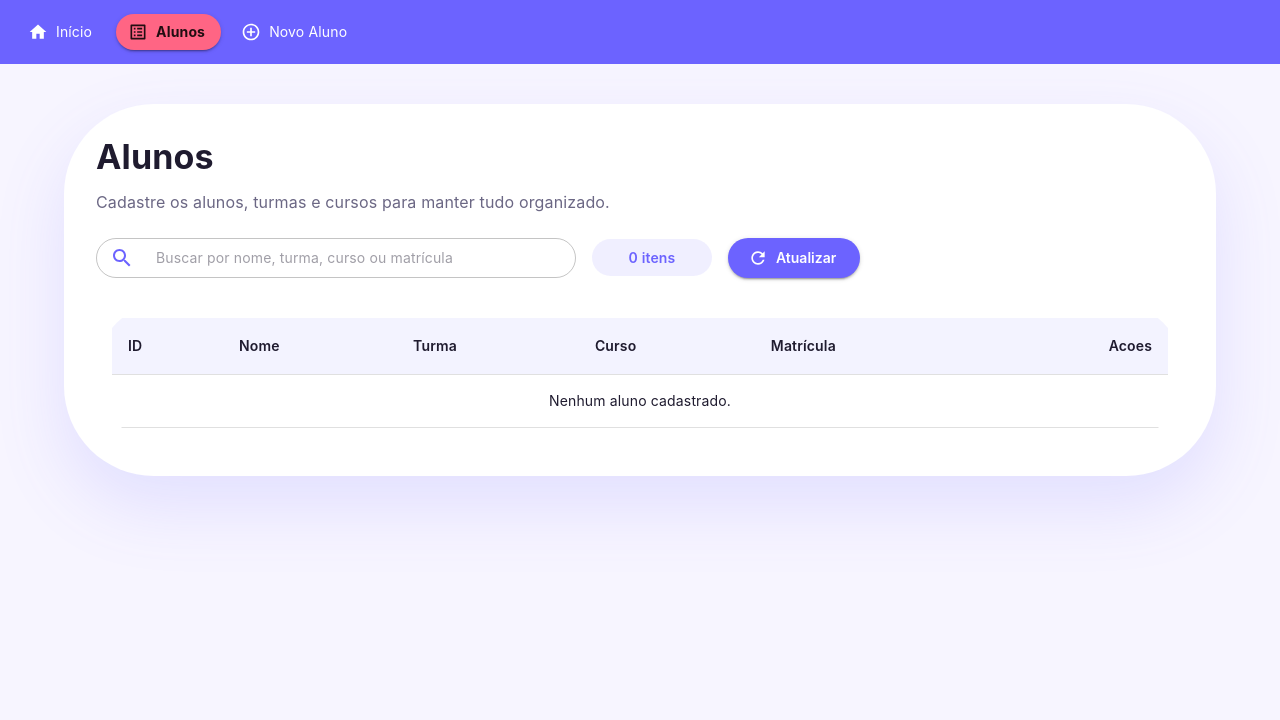
Test: Fluxo completo de alunos (integração) › lista, navega para novo aluno, cria e volta exibindo item
The image size is (1280, 720).
Expected: the heading "Alunos" is shown, x1=96 y1=136 x2=214 y2=177
Click the link "Novo Aluno": (296, 32) x1=237 y1=14 x2=355 y2=50
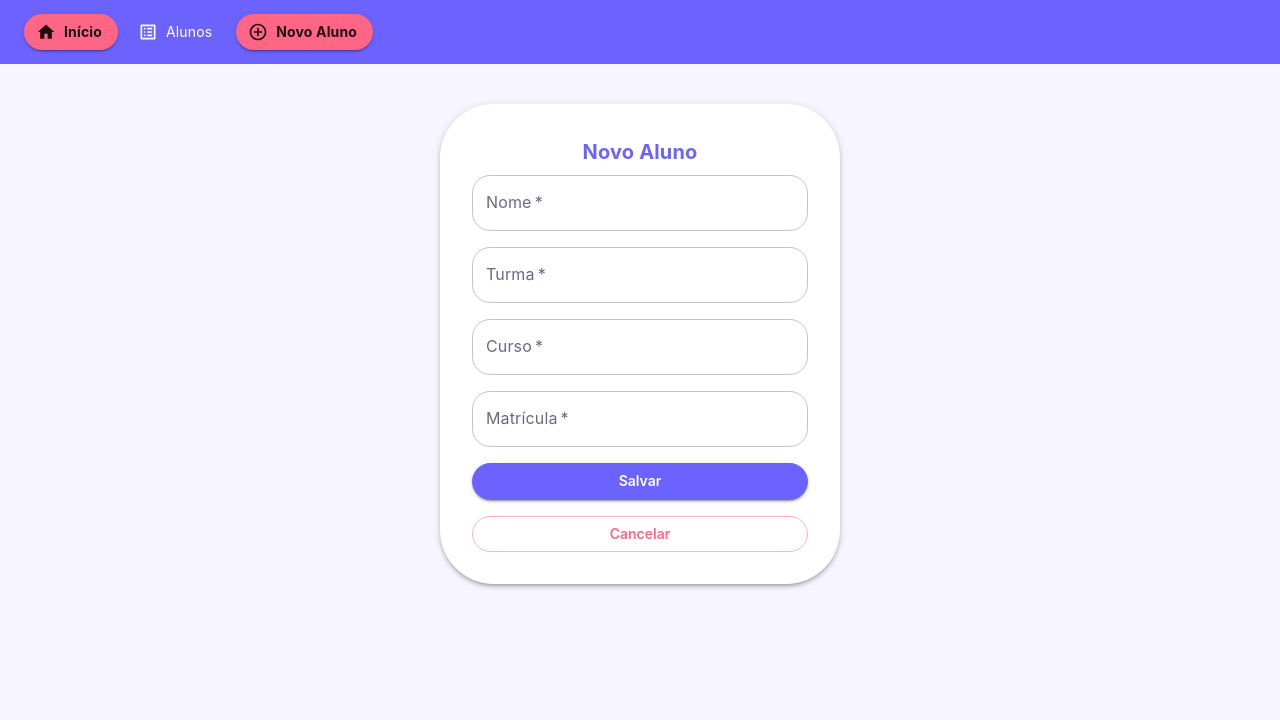
In the field labelled "Nome *": (640, 203) x1=472 y1=175 x2=808 y2=231, type "Ana"
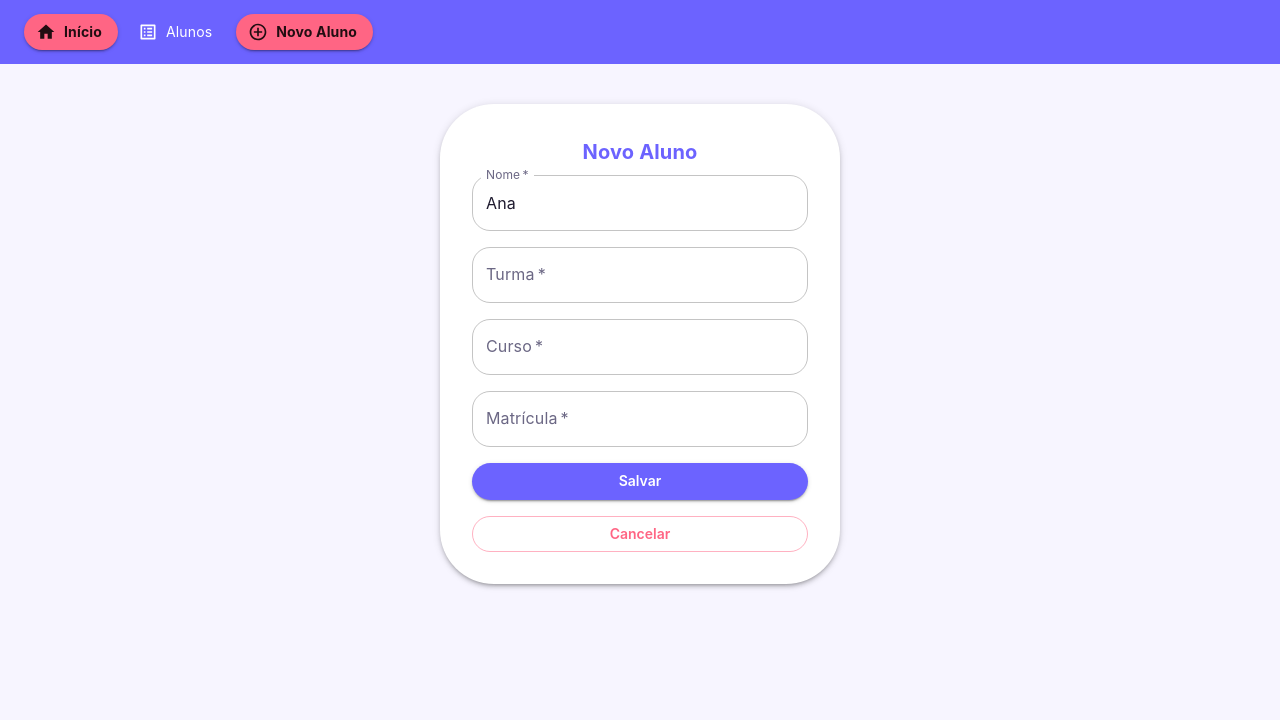
In the field labelled "Turma *": (640, 275) x1=472 y1=247 x2=808 y2=303, type "1001"
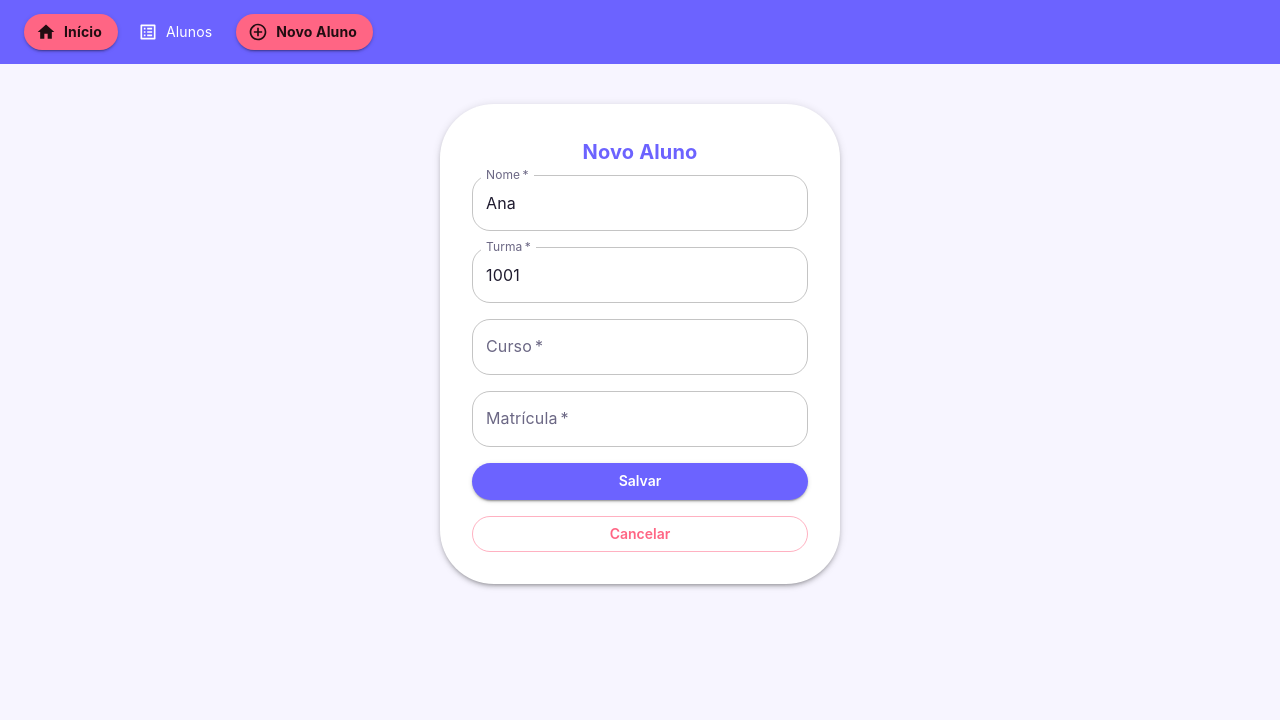
In the field labelled "Curso *": (640, 347) x1=472 y1=319 x2=808 y2=375, type "Medicina"
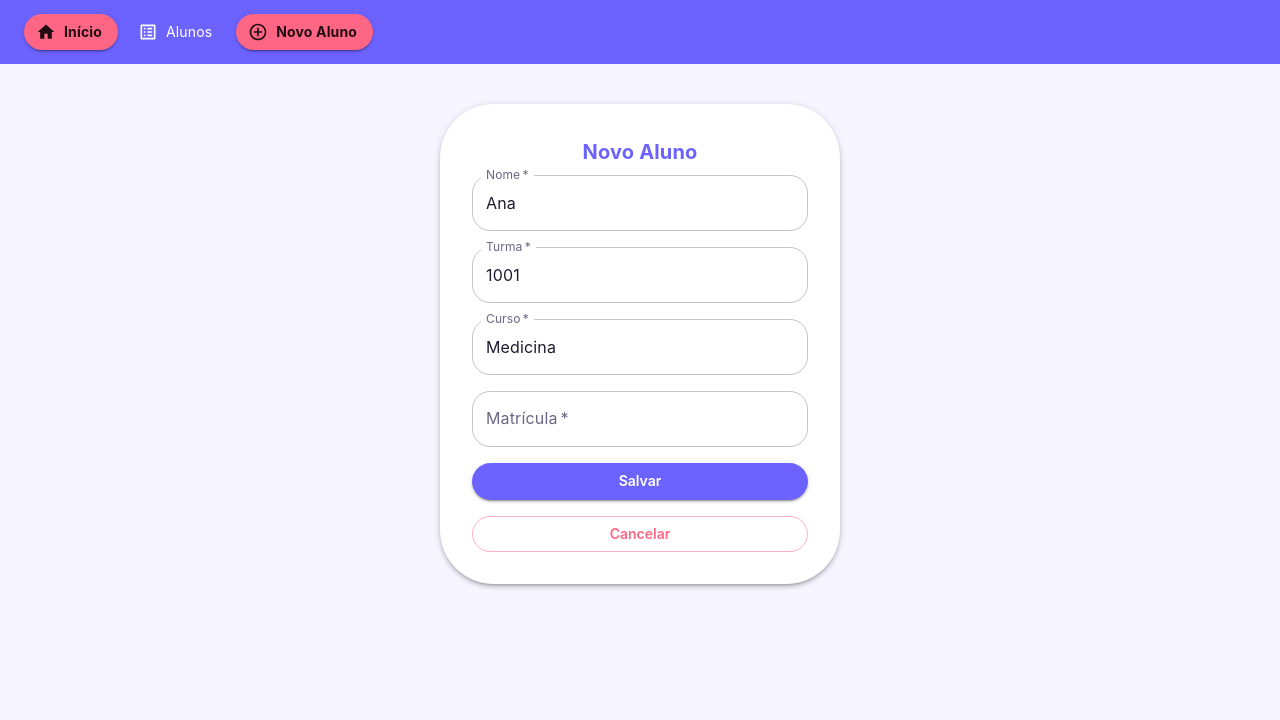
In the field labelled "Matrícula *": (640, 419) x1=472 y1=391 x2=808 y2=447, type "123"
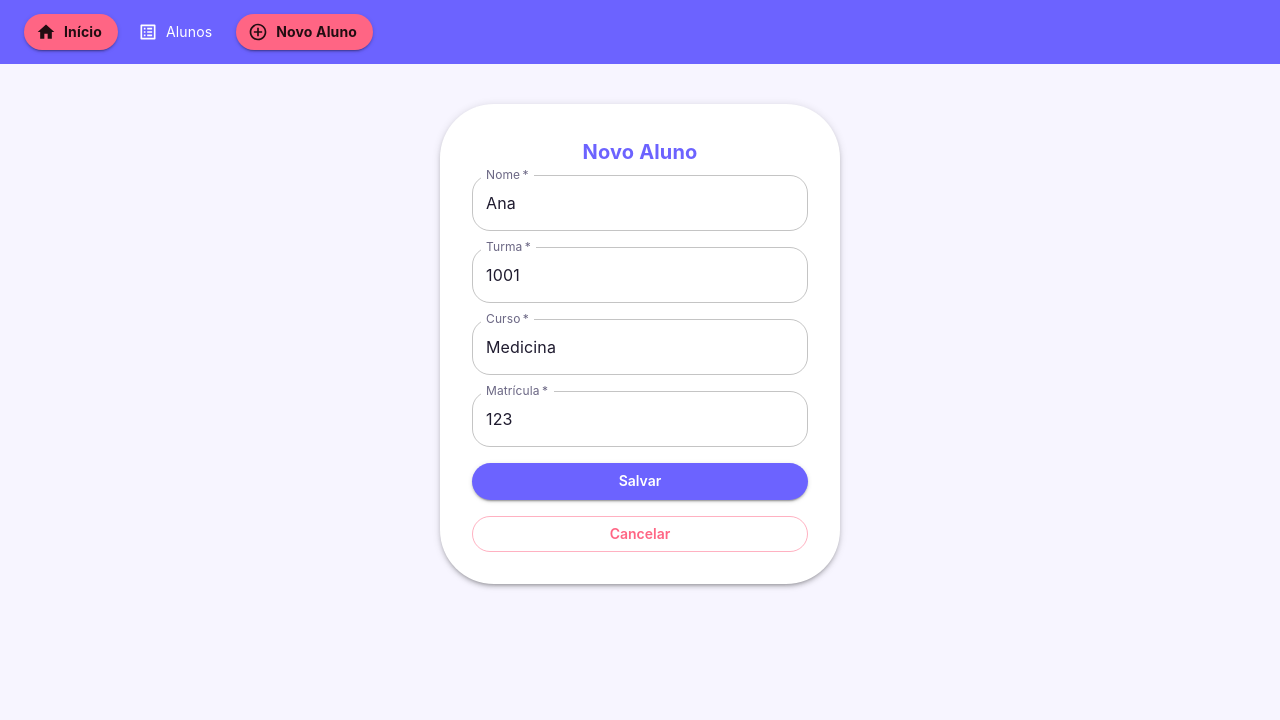
Click the button "Salvar": (640, 481) x1=472 y1=463 x2=808 y2=500
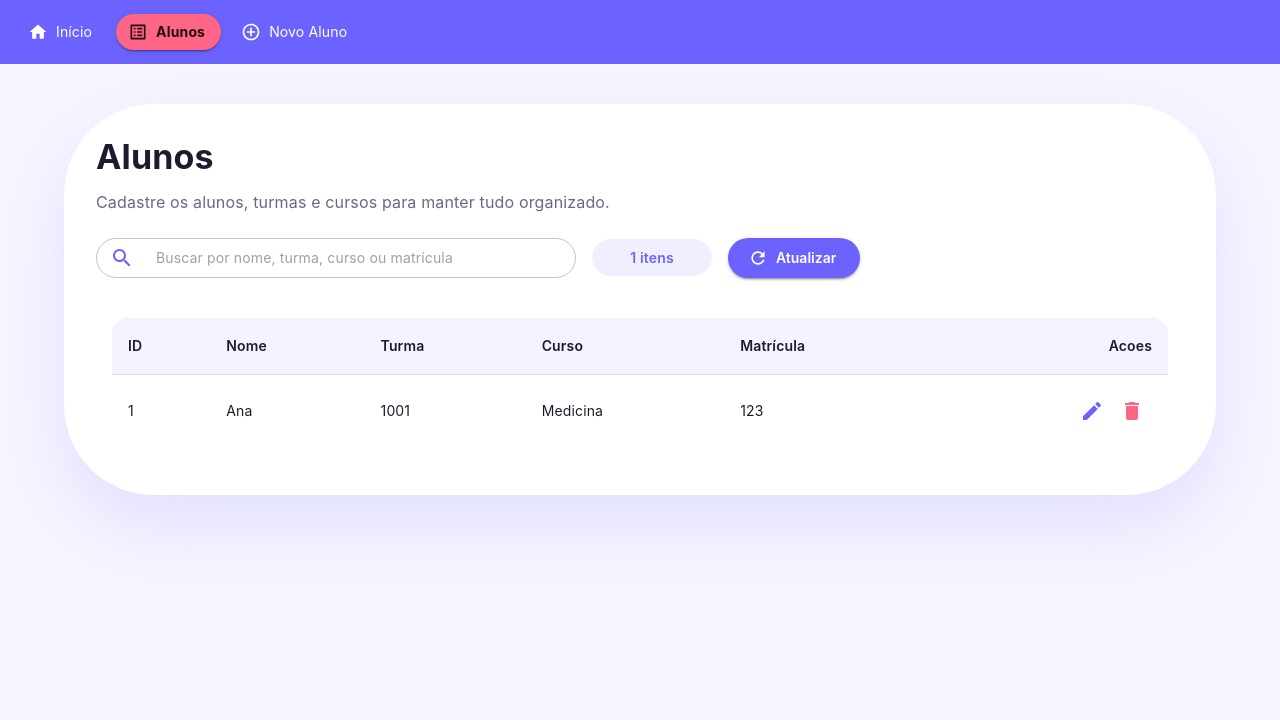
Expected: the text "Ana" is shown, x1=210 y1=374 x2=364 y2=447
